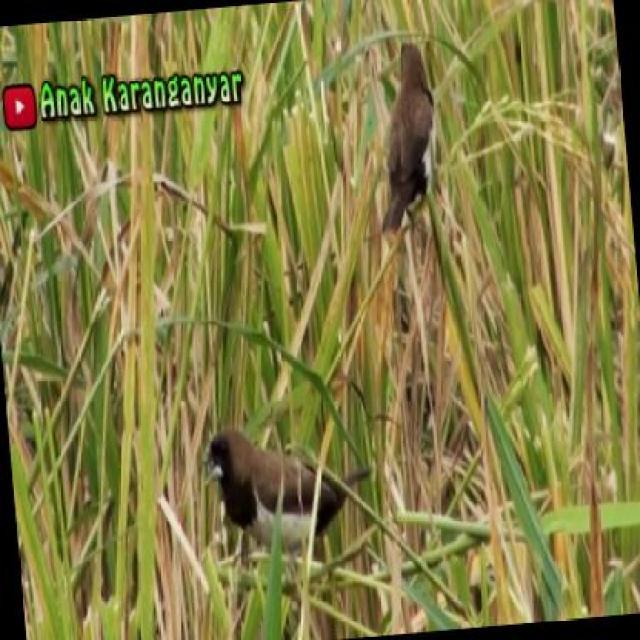Bird: (193, 418, 397, 566), (368, 33, 492, 259)
